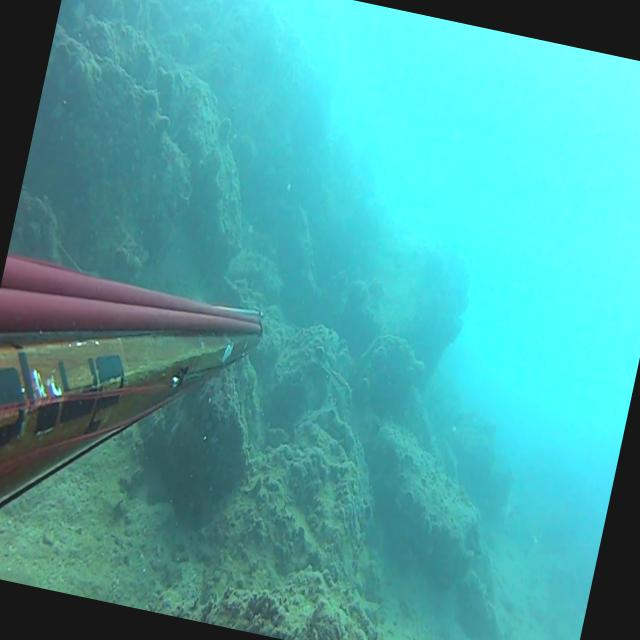Balon Baligi: (314, 358, 358, 407)
